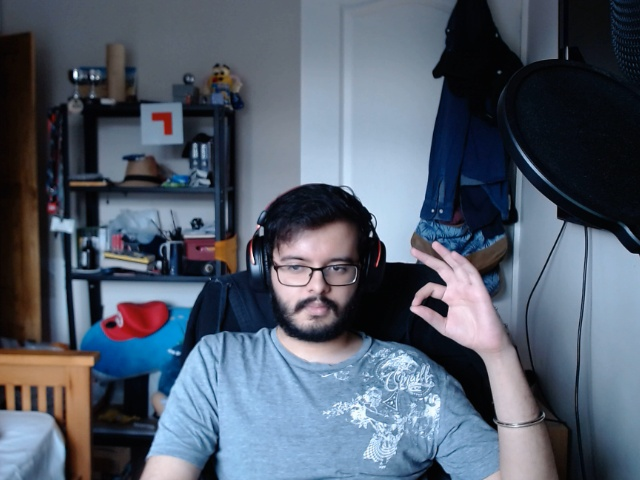Okay: (407, 237, 513, 370)
